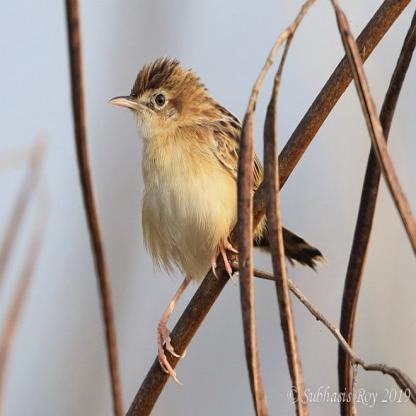Burung: (107, 56, 327, 386)
